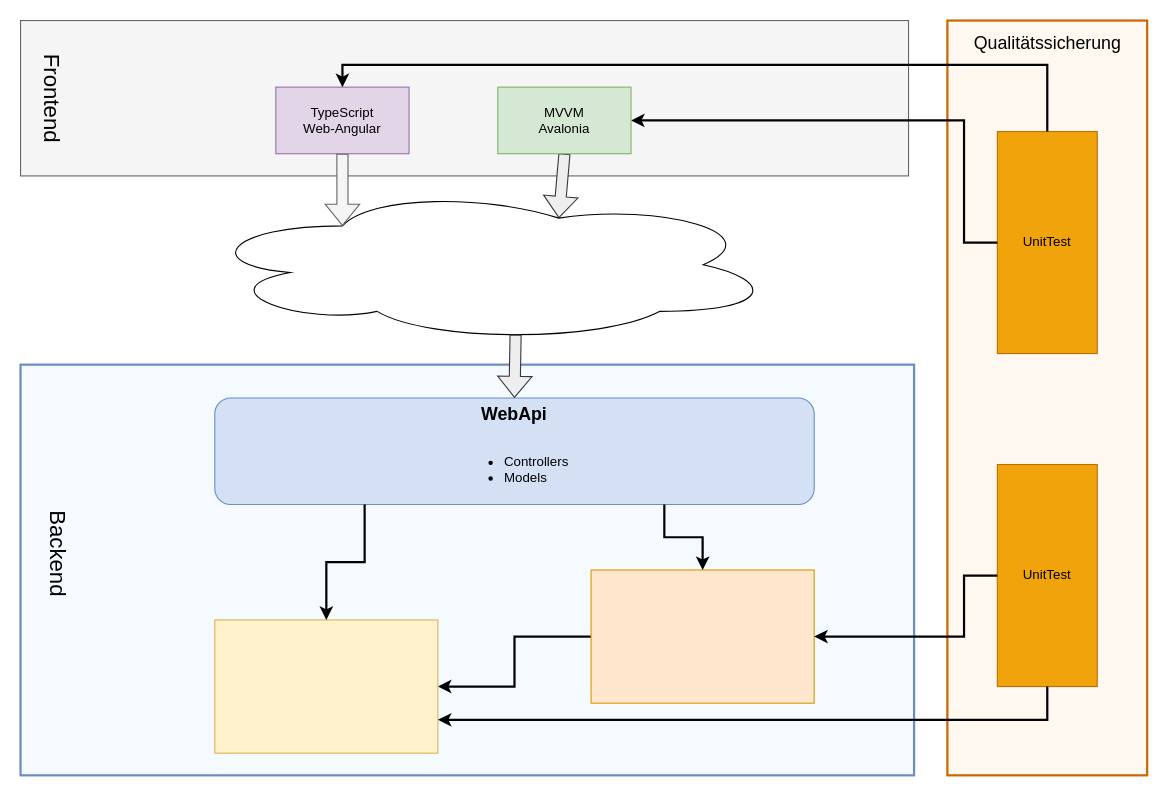
Image size: 1167x795. Some labels were removed from this diagram. Here are the shapes that lost their labels. From the top down, the box of each, then its label:
(197, 186, 775, 342): Internet
(590, 569, 814, 703): Logic Contracts DataContext Entities
(214, 619, 438, 753): Common Contracts Modules
